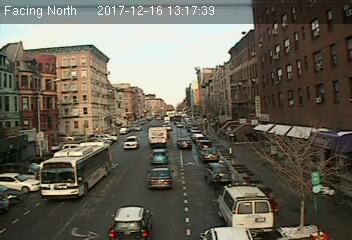bus: (37, 140, 113, 198)
car: (107, 205, 156, 240), (204, 159, 232, 184), (147, 168, 174, 189), (200, 147, 220, 163), (151, 149, 170, 164), (122, 135, 138, 149), (177, 139, 192, 149)
police: (216, 182, 273, 234)
truck: (147, 126, 168, 148)
